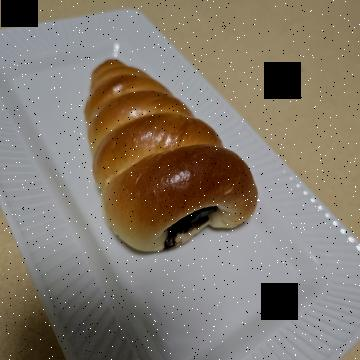cream horn: (58, 91, 292, 291)
